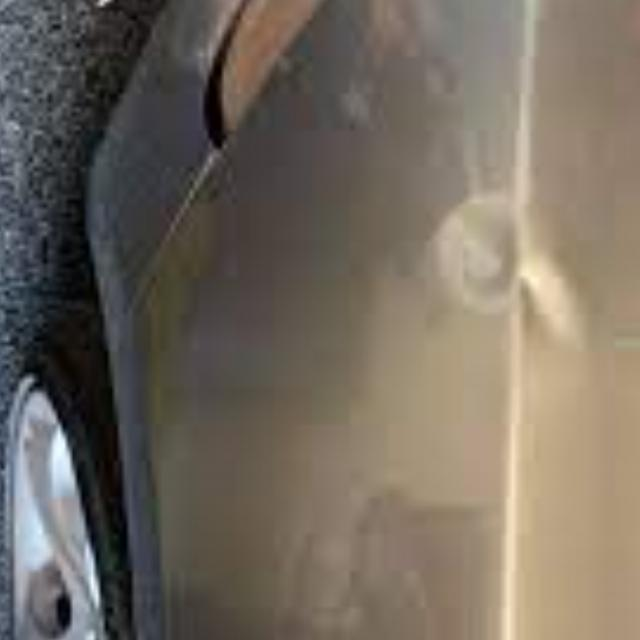dents: (415, 182, 541, 334)
